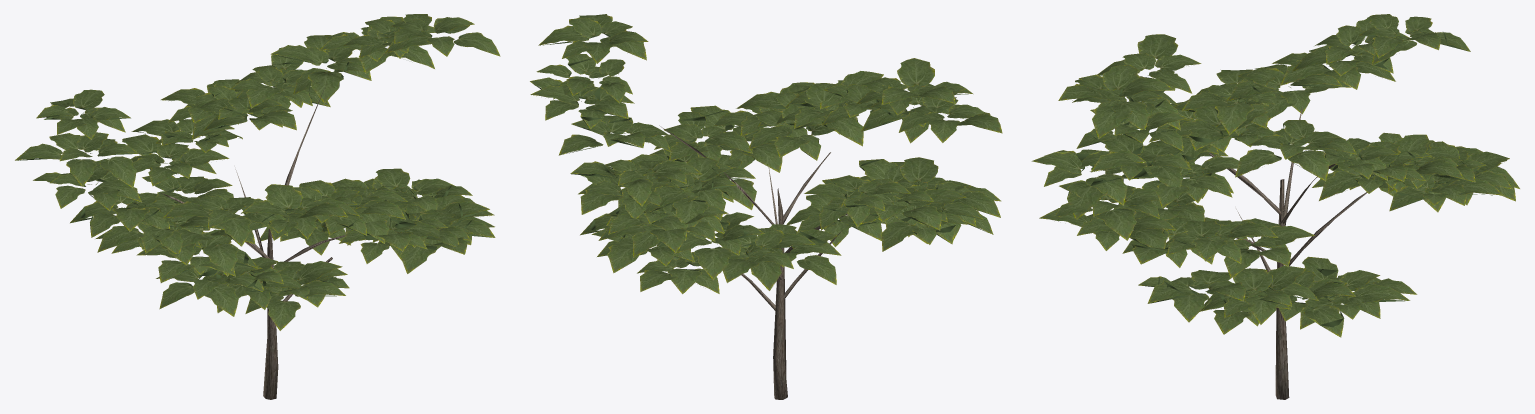
The model's file is broussonetia-2-lite.glb.
3 renders of one model, left to right at view 1: azimuth 30°, elevation 25°; view 2: azimuth 150°, elevation 25°; view 3: azimuth 270°, elevation 25°, orthographic. The views are drawn at different scales.
Visible parts, largest first — view 1: leaf, leaf-edge, bark; view 2: leaf, leaf-edge, bark; view 3: leaf, leaf-edge, bark.
Boxes of the visible parts, box(x1,y1,x2,y2) form: leaf: box(15, 14, 500, 330); leaf-edge: box(17, 25, 493, 299); bark: box(161, 88, 345, 399); leaf: box(530, 14, 1002, 294); leaf-edge: box(536, 23, 990, 287); bark: box(659, 125, 847, 399); leaf: box(1031, 14, 1519, 337); leaf-edge: box(1067, 17, 1503, 327); bark: box(1209, 106, 1367, 399).
Bounding box in the file's own units: 2.12 × 1.56 × 1.98.
5 materials, 4 textured.
